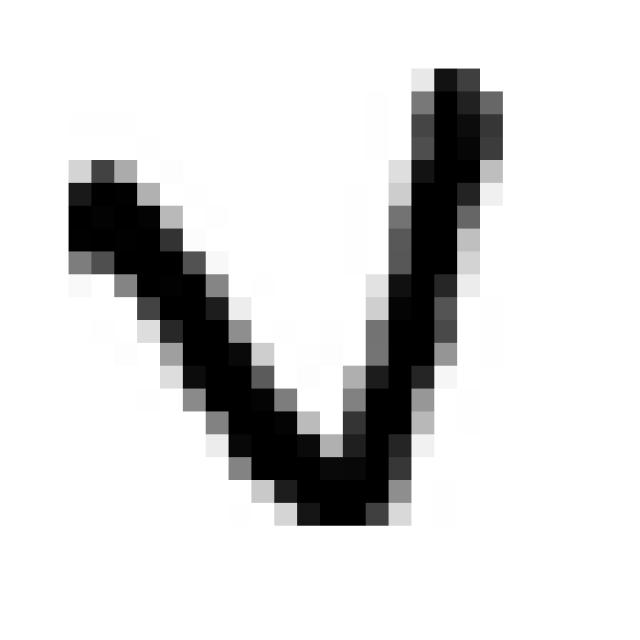7 -seven-: (48, 41, 523, 546)
